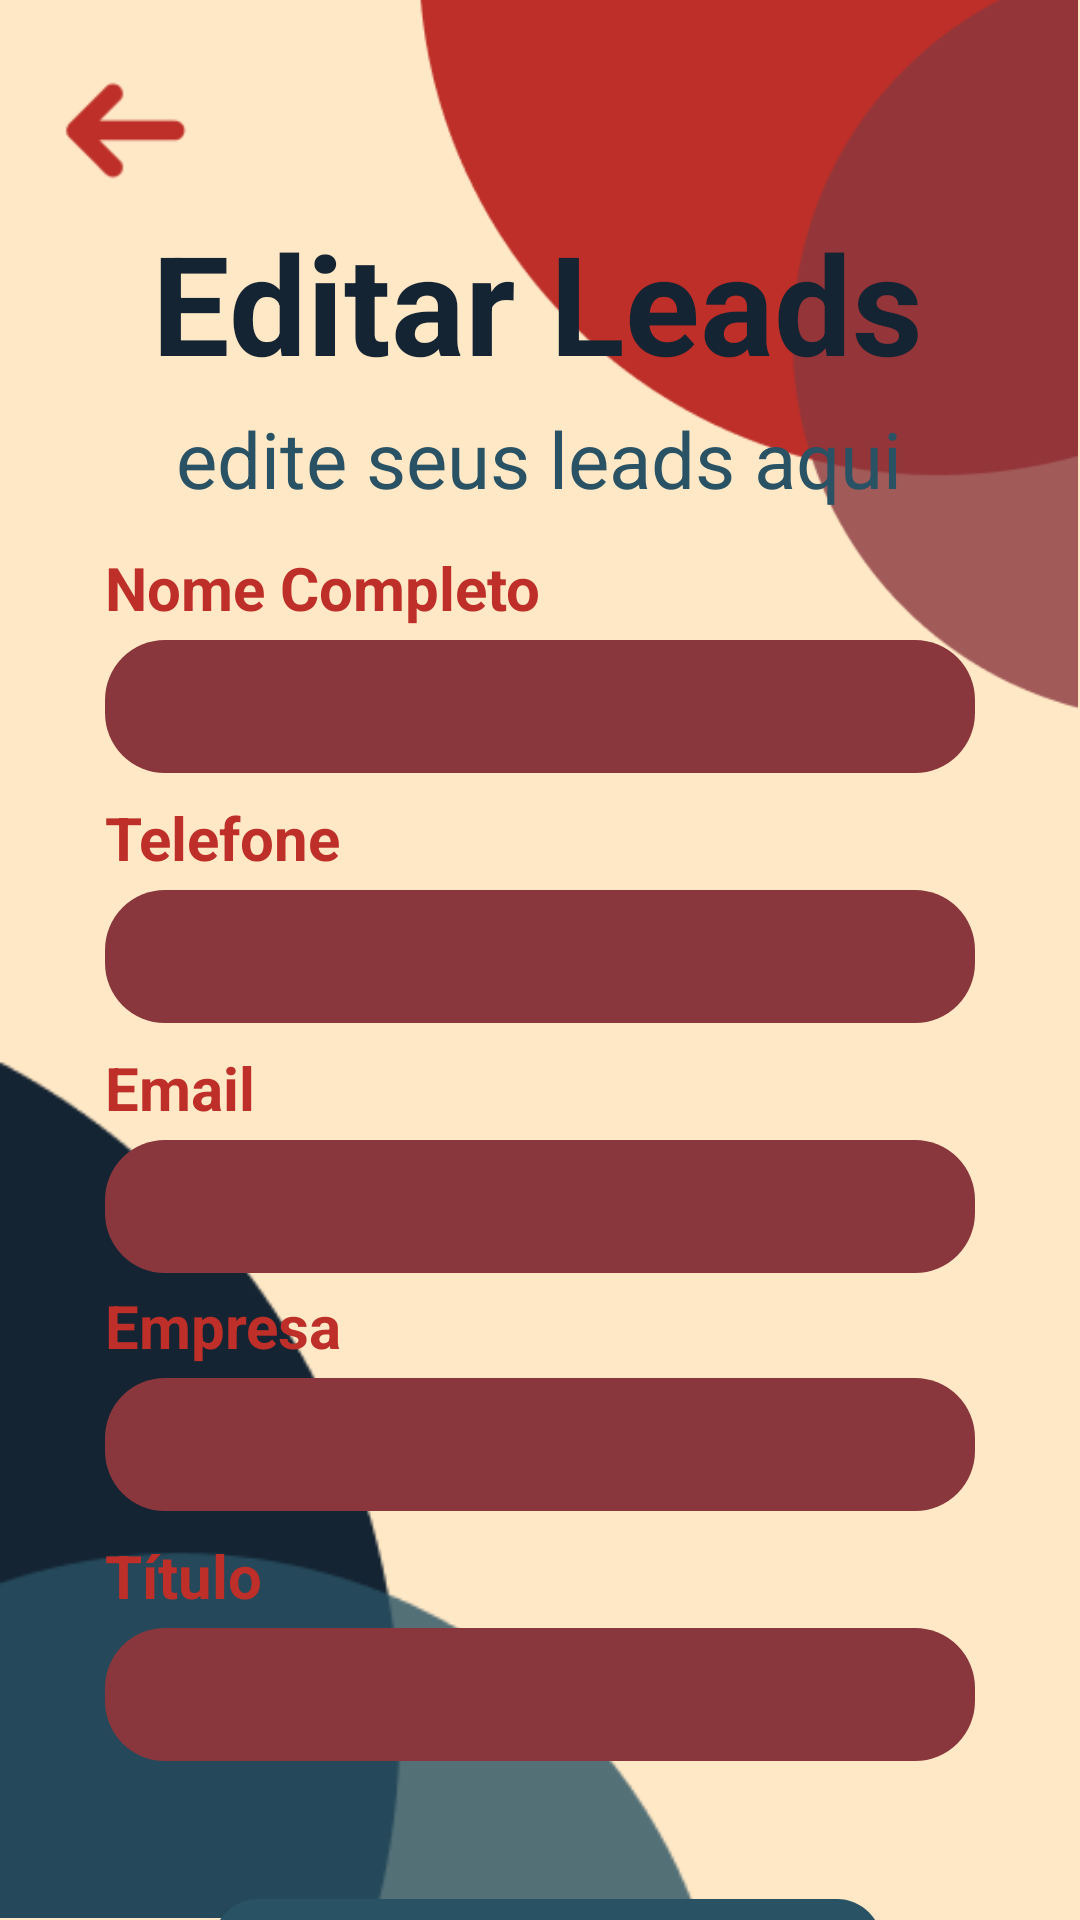

Icons on this 1080 x 1920 Android screen, each with its box as (x1, y1, x2, y2):
arrow: (66, 82, 186, 179)
